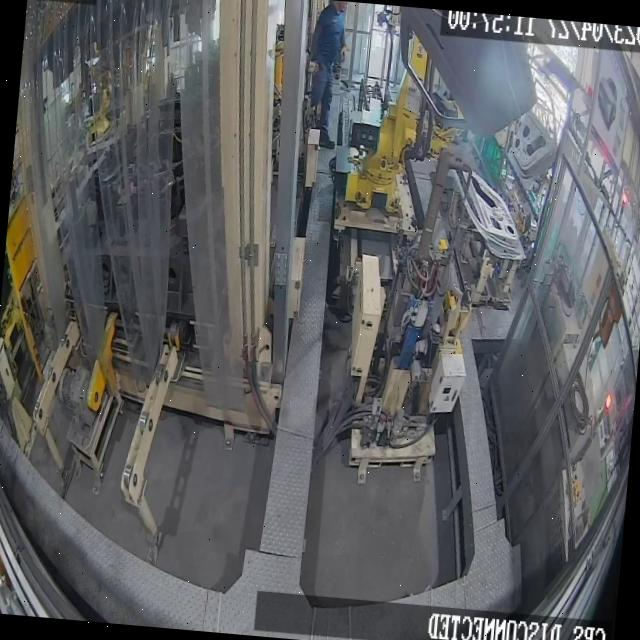Person: (301, 0, 353, 150), (570, 473, 581, 508)
